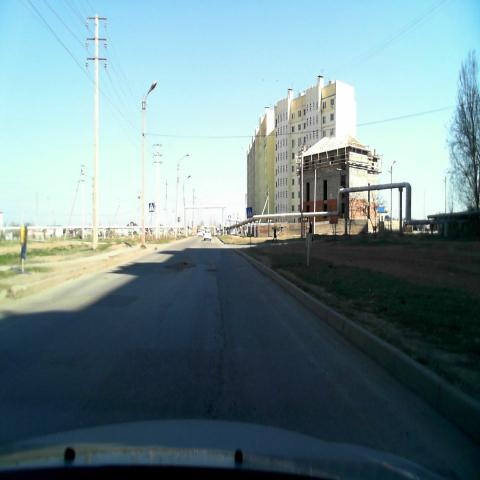5_19_1: (246, 206, 252, 218), (148, 202, 154, 212)
